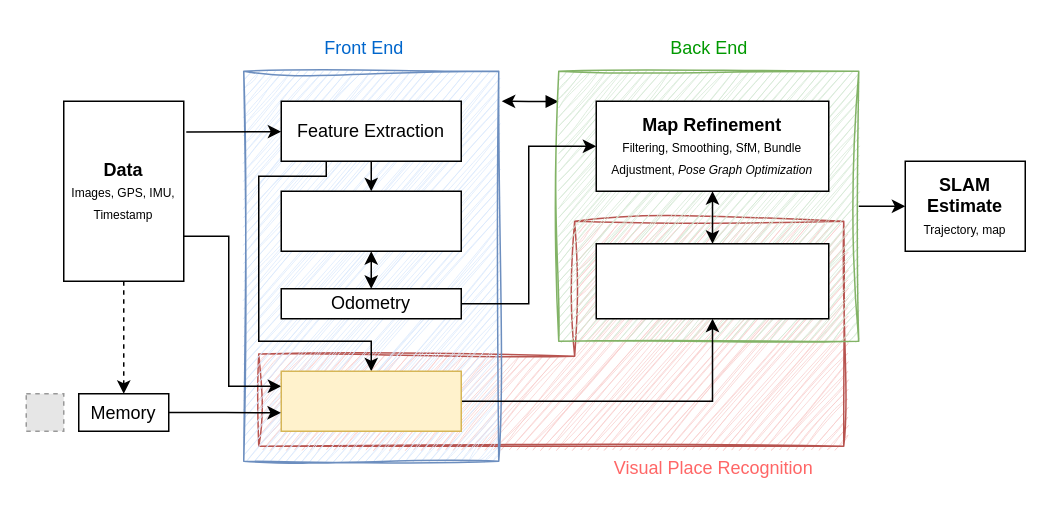
Image size: 1052x516. Some labels were removed from this diagram. Grey dashed boxes stand in for pictures. The shapes that lost their labels are listed below. From the top down, each one's centre as x and y in pixels, then its label:
the point at 370,220: Feature Tracking
the point at 712,280: Fine Localization Feature Matching, PnP pose estimation with RANSAC
the point at 370,400: Image Retrieval
